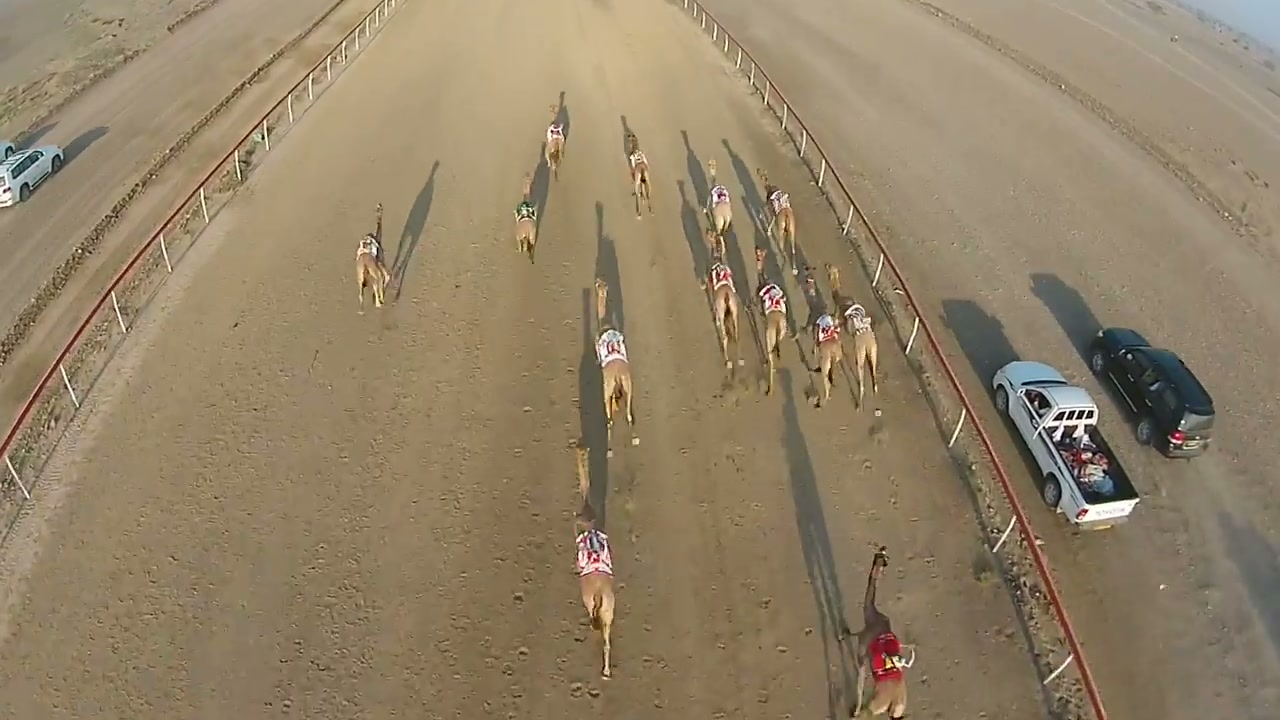animal_footprint: (489, 237, 619, 718), (689, 411, 835, 698), (832, 433, 982, 697), (622, 455, 682, 706)
